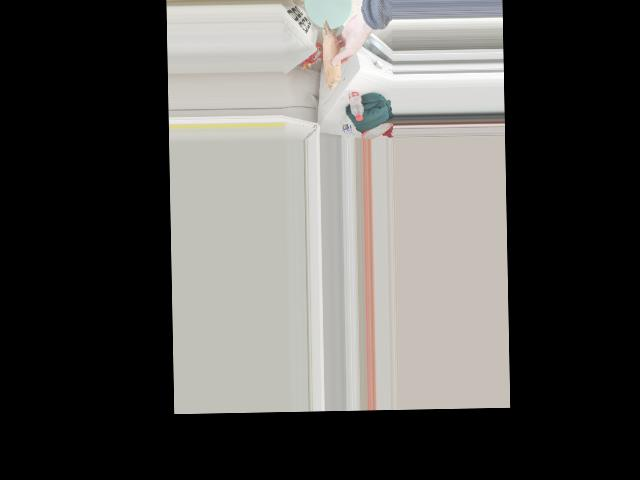sweet_potato: (321, 24, 344, 84)
